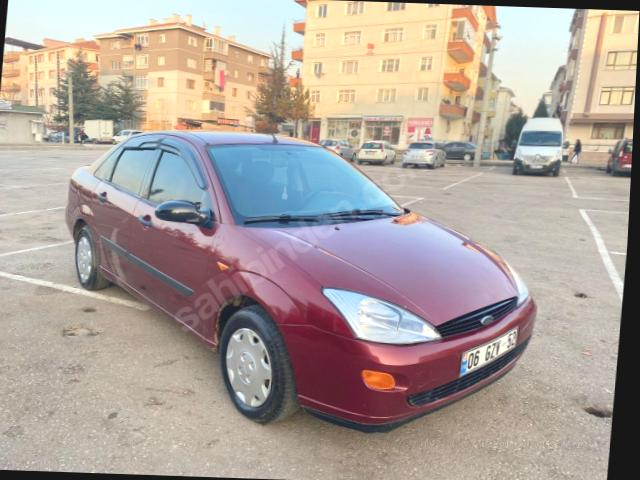plaka: (460, 328, 517, 376)
